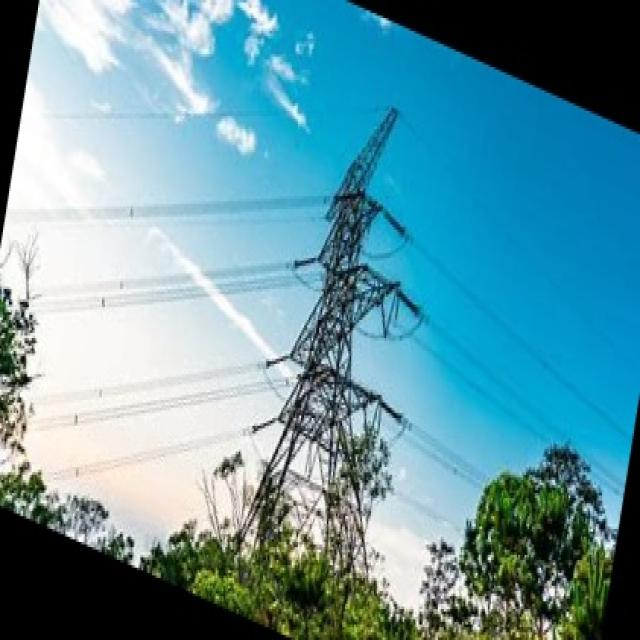utility poles: (469, 398, 588, 580), (296, 427, 410, 588)
